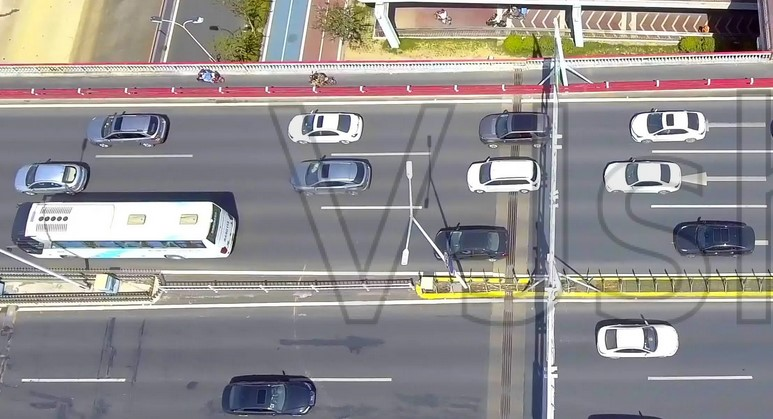car: (221, 375, 317, 418), (289, 156, 372, 198), (595, 321, 679, 360), (674, 219, 755, 259), (86, 111, 169, 149), (478, 108, 550, 149), (433, 225, 509, 262), (603, 159, 681, 195), (629, 108, 706, 144), (466, 158, 542, 194), (14, 161, 89, 197), (288, 110, 363, 145)
